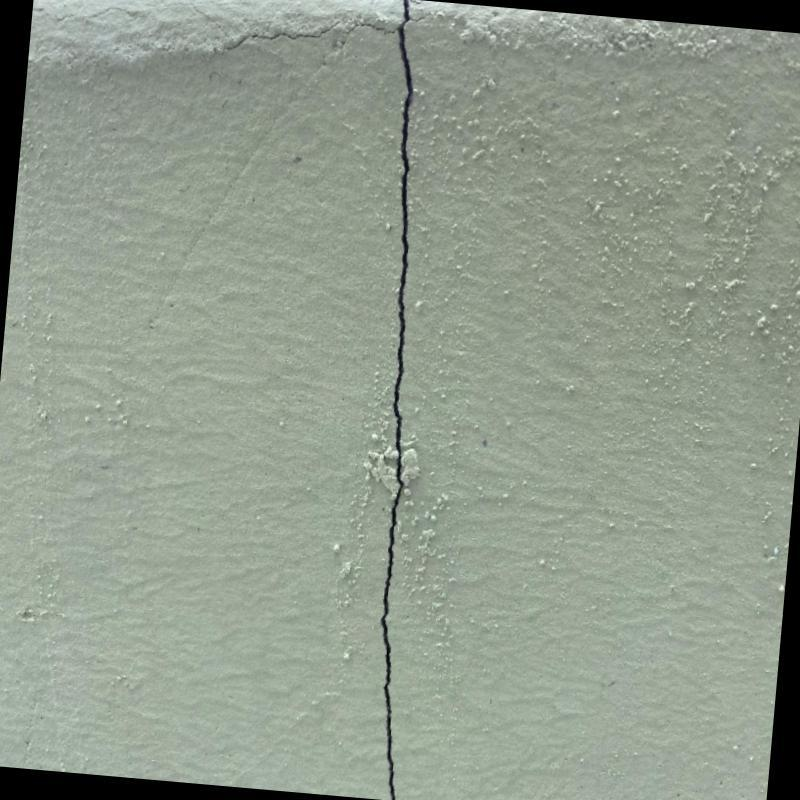pothole: (378, 4, 419, 796)
